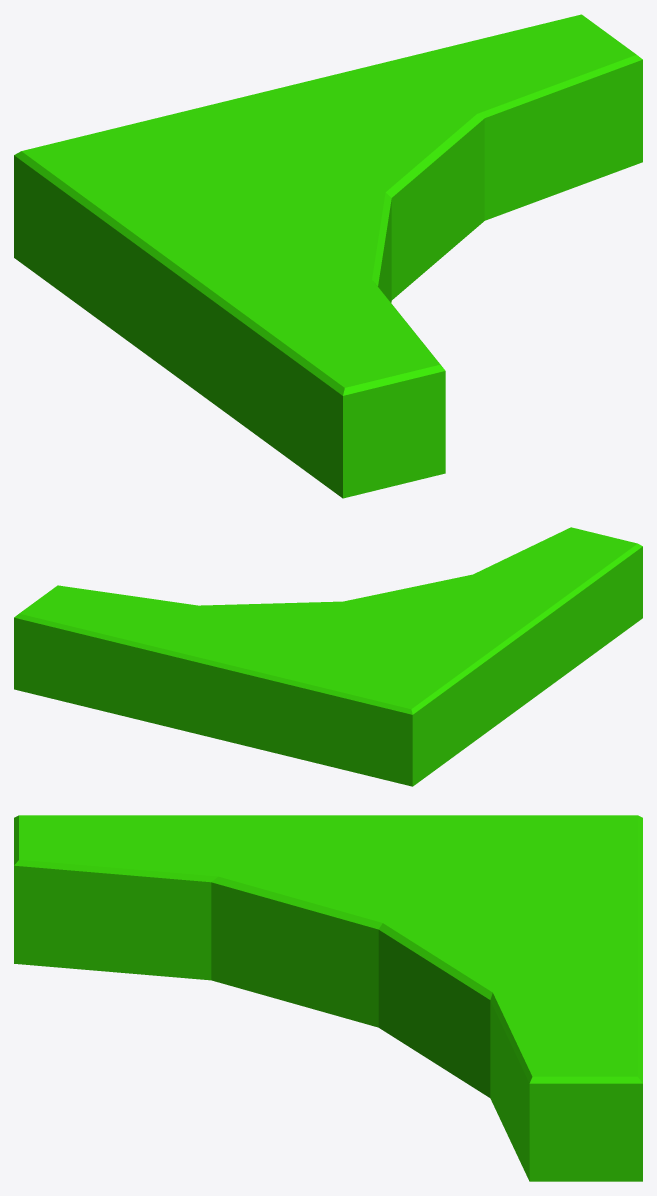
File: round_5x1_04.fbx
The picture shows the model from 3 angles, top to bottom: view 1: azimuth 30°, elevation 25°; view 2: azimuth 150°, elevation 25°; view 3: azimuth 270°, elevation 25°; orthographic projection. The views are drawn at different scales.
Parts seen in each view (by area): view 1: round_5x1_04; view 2: round_5x1_04; view 3: round_5x1_04.
Boxes of the visible parts, x1,y1,x2,y2 form: round_5x1_04: (14,14,642,498); round_5x1_04: (14,527,642,786); round_5x1_04: (14,815,642,1181).
Size of the model in its own units: 610 by 110 by 610.
